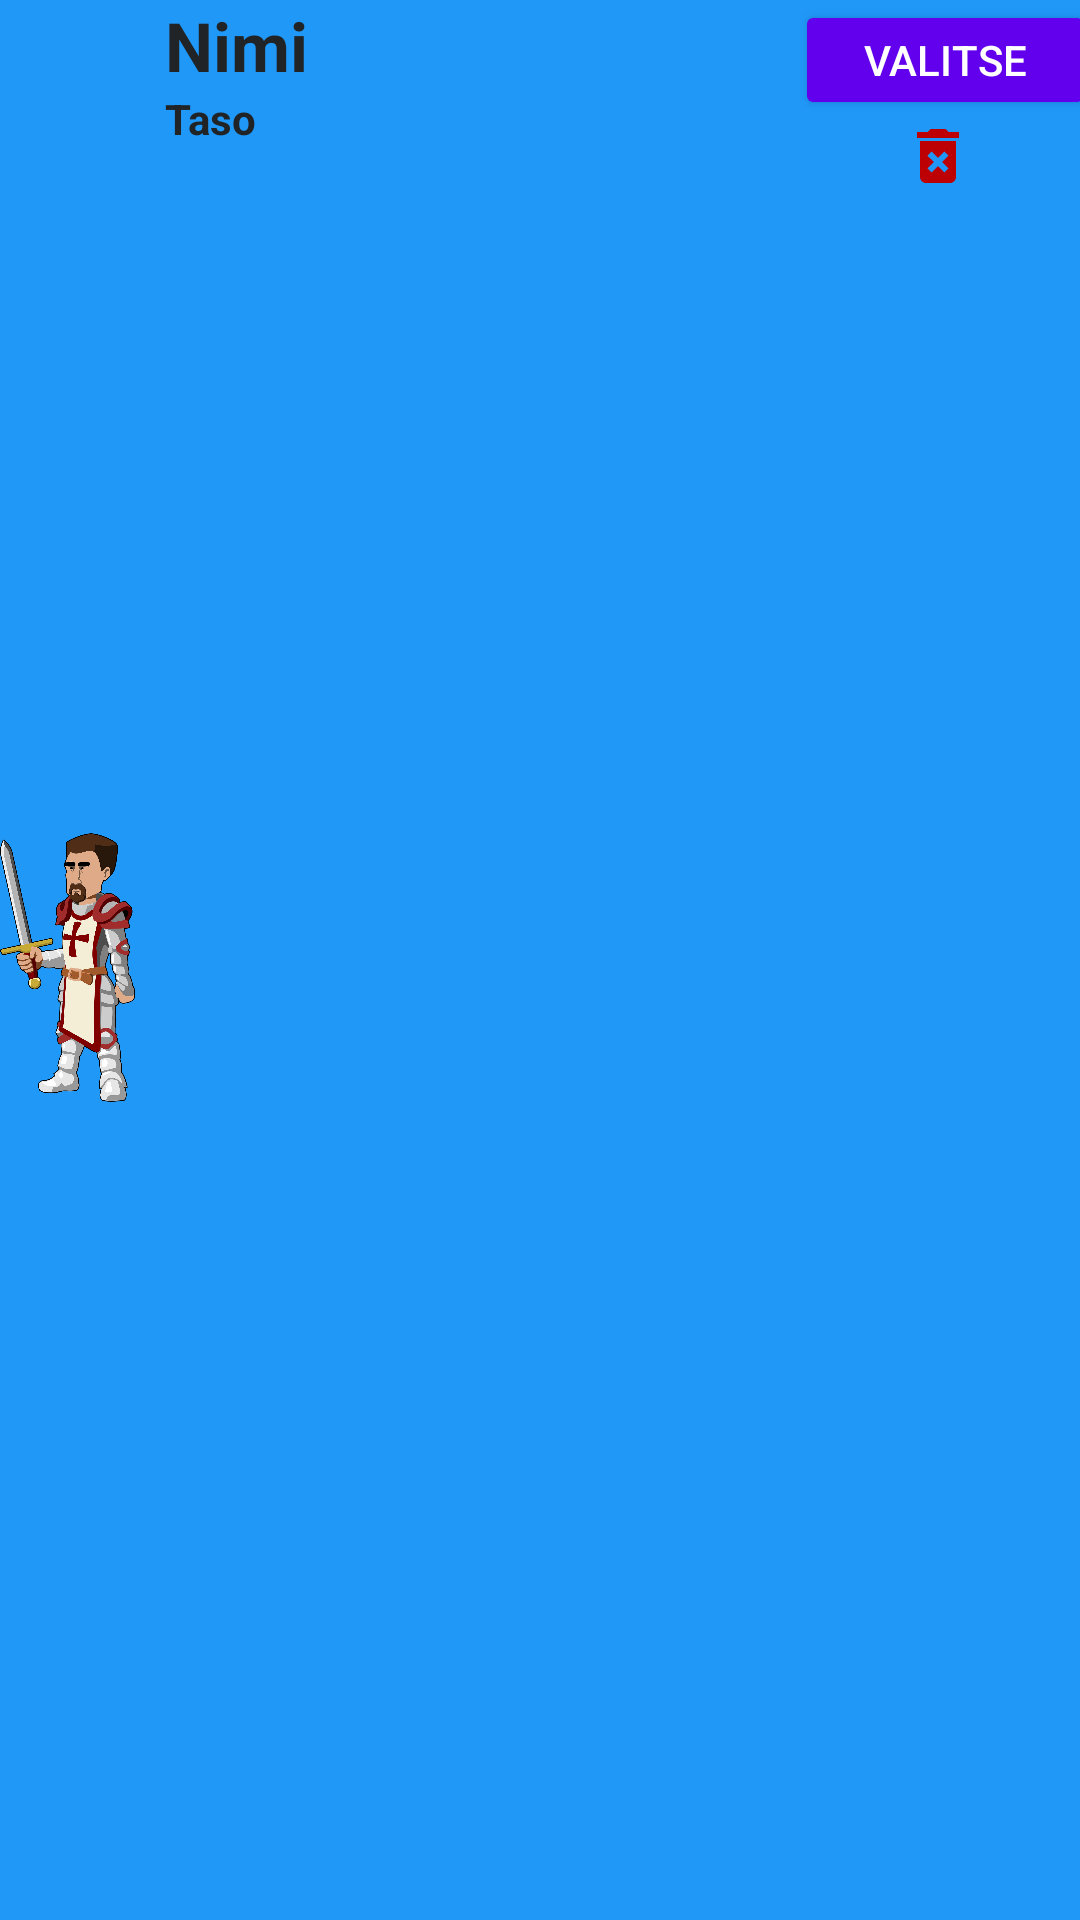

Named icons in this screenshot (1080×1920) and their centers, (x=x, y=y):
crusader: (x=67, y=967)
delete forever: (x=938, y=156)
